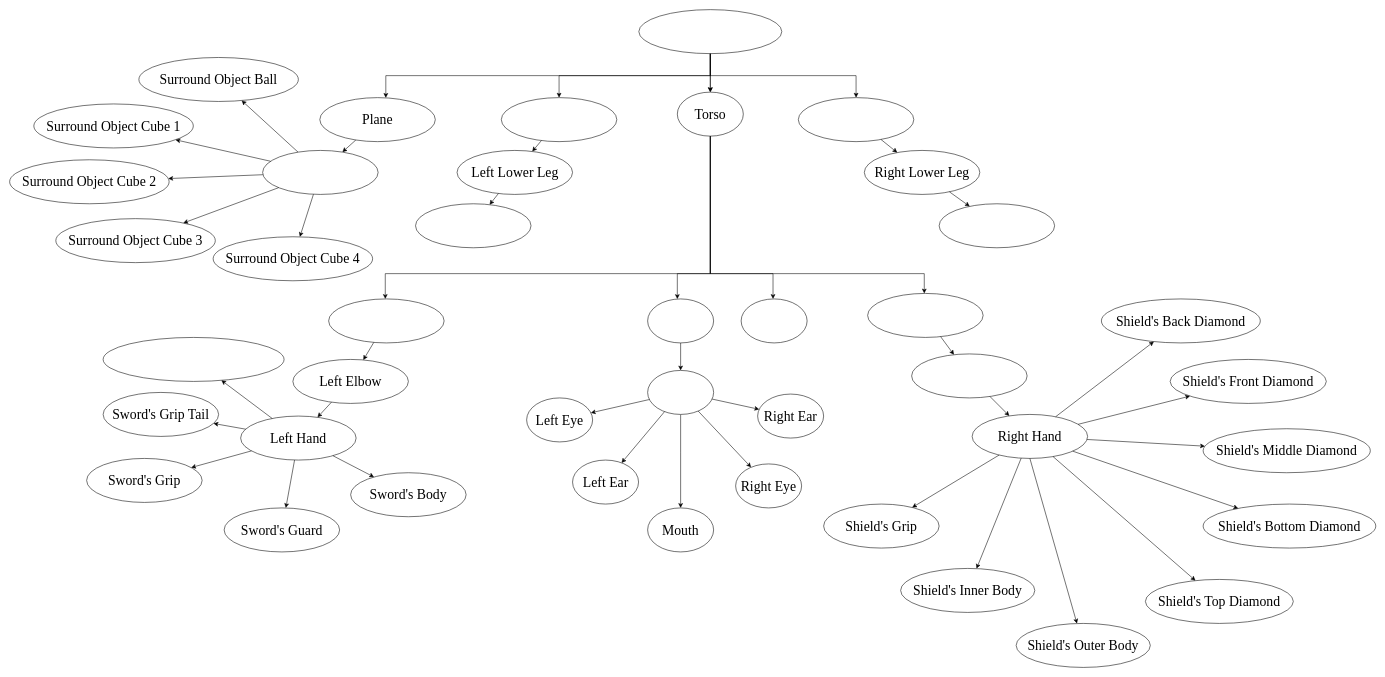
Some shapes in this 1385 by 677 pixel diagram are drawn without their labels. The shapes that lost their labels are listed below. From the top down, each one's centre as x and y in pixels, then its label:
point 710,31: Central Controller
point 559,119: Left Upper Leg
point 856,119: Right Upper Leg
point 320,172: Mini Plane
point 473,225: Left Foot
point 997,225: Right Foot
point 386,320: Left Shoulder
point 680,320: Neck
point 774,320: Chest
point 925,315: Right Shoulder
point 193,359: Sword's Grip Tail Diamond
point 969,375: Right Elbow
point 680,392: Head
